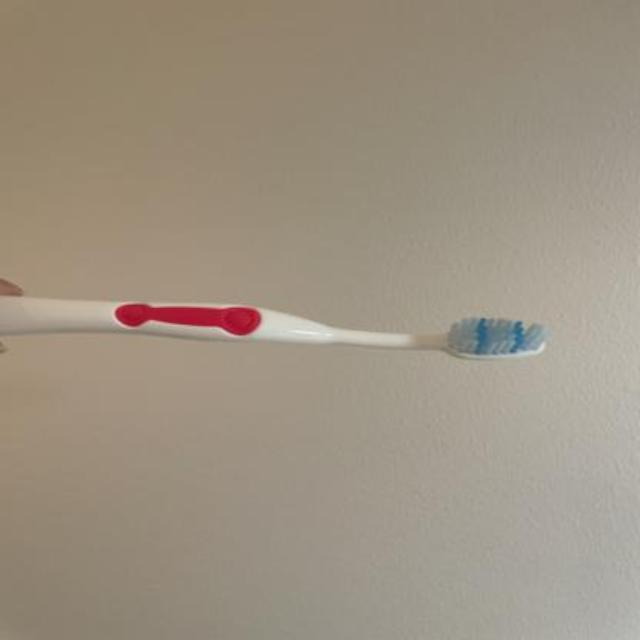toothbrush: (1, 292, 556, 372)
